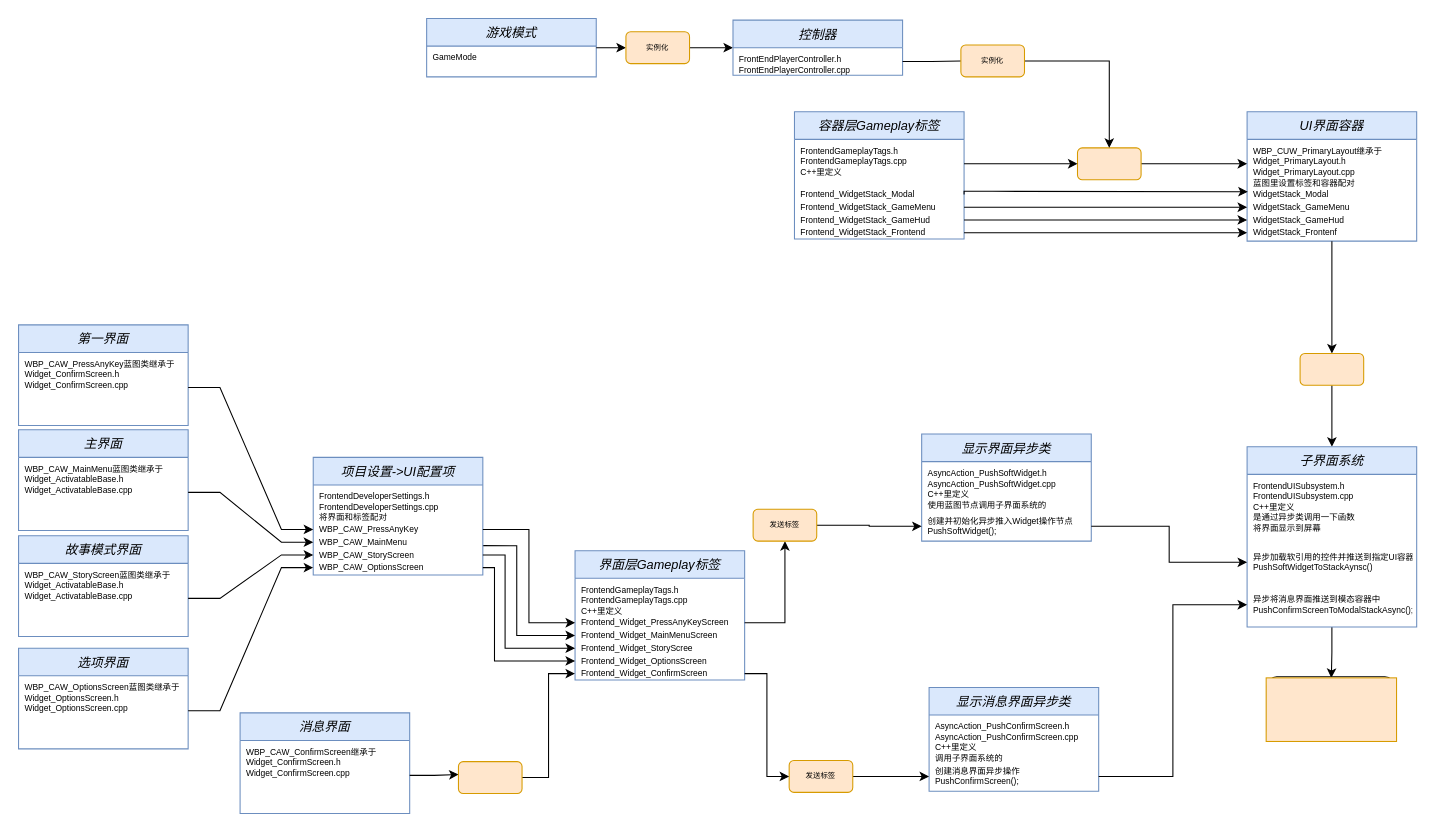
Image size: 1435x832. Some labels were removed from this diagram. Each missing label, with the centre of its shape:
传递: the point at 1331,368
关联: the point at 1108,163
在项目设置将标签和控件绑定: the point at 489,777
显示到屏目: the point at 1331,709
